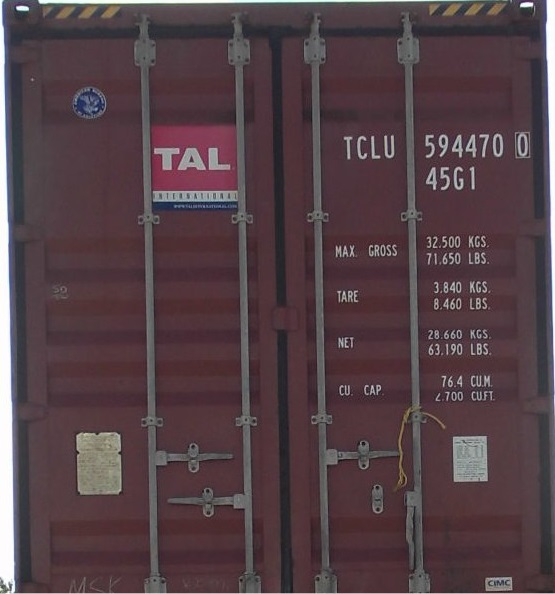container_door: (26, 10, 534, 586)
